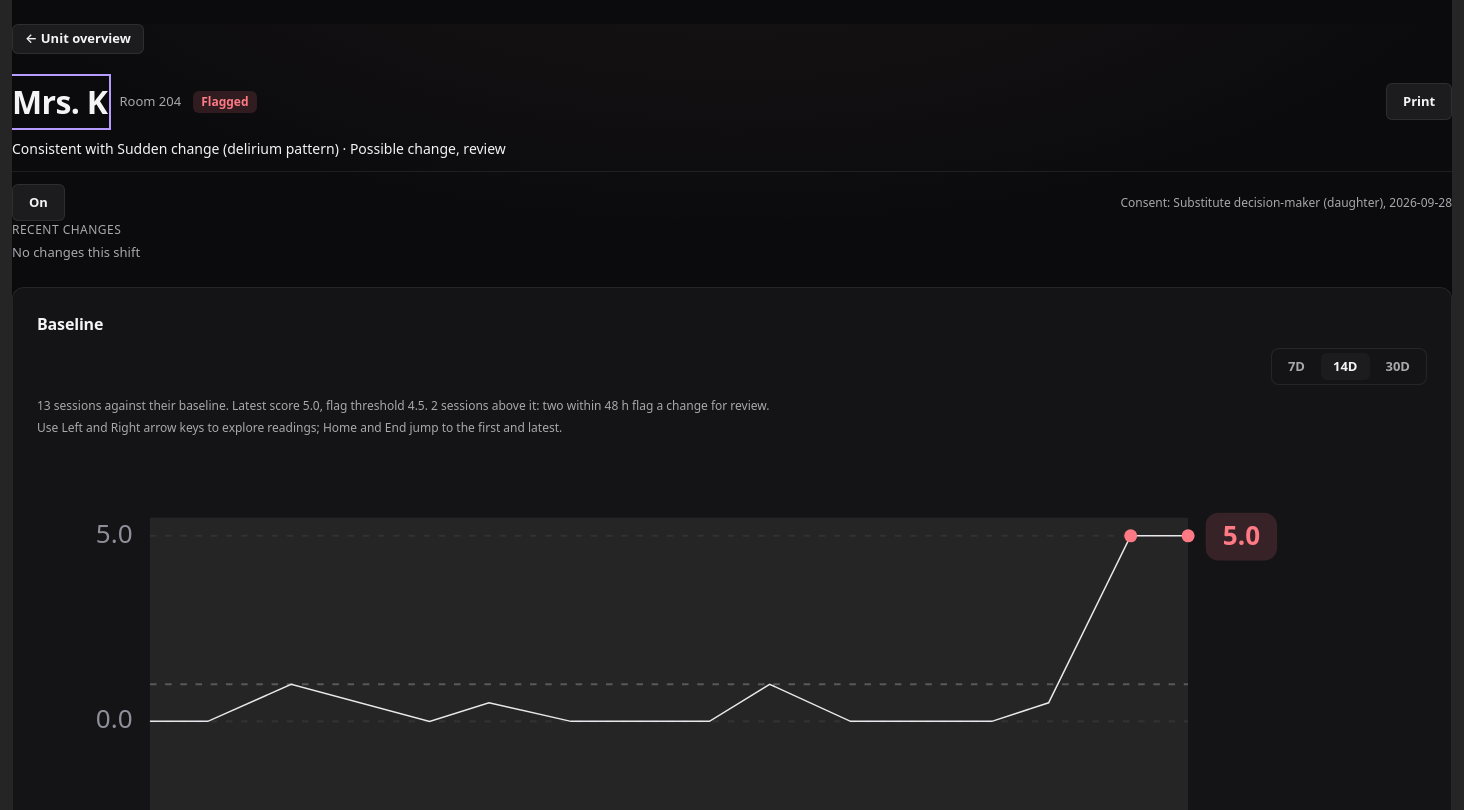
Test: ResidentDetail monitoring switch (T243) › re-reads the trail after the nurse pauses the room (T262)
The width and height of the screenshot is (1464, 810).
Expected: the text "No changes this shift" is shown, [12,243,140,262]
Step 1. Click the switch named "Monitoring in room 204" → (38, 202), box [12,184,65,221]
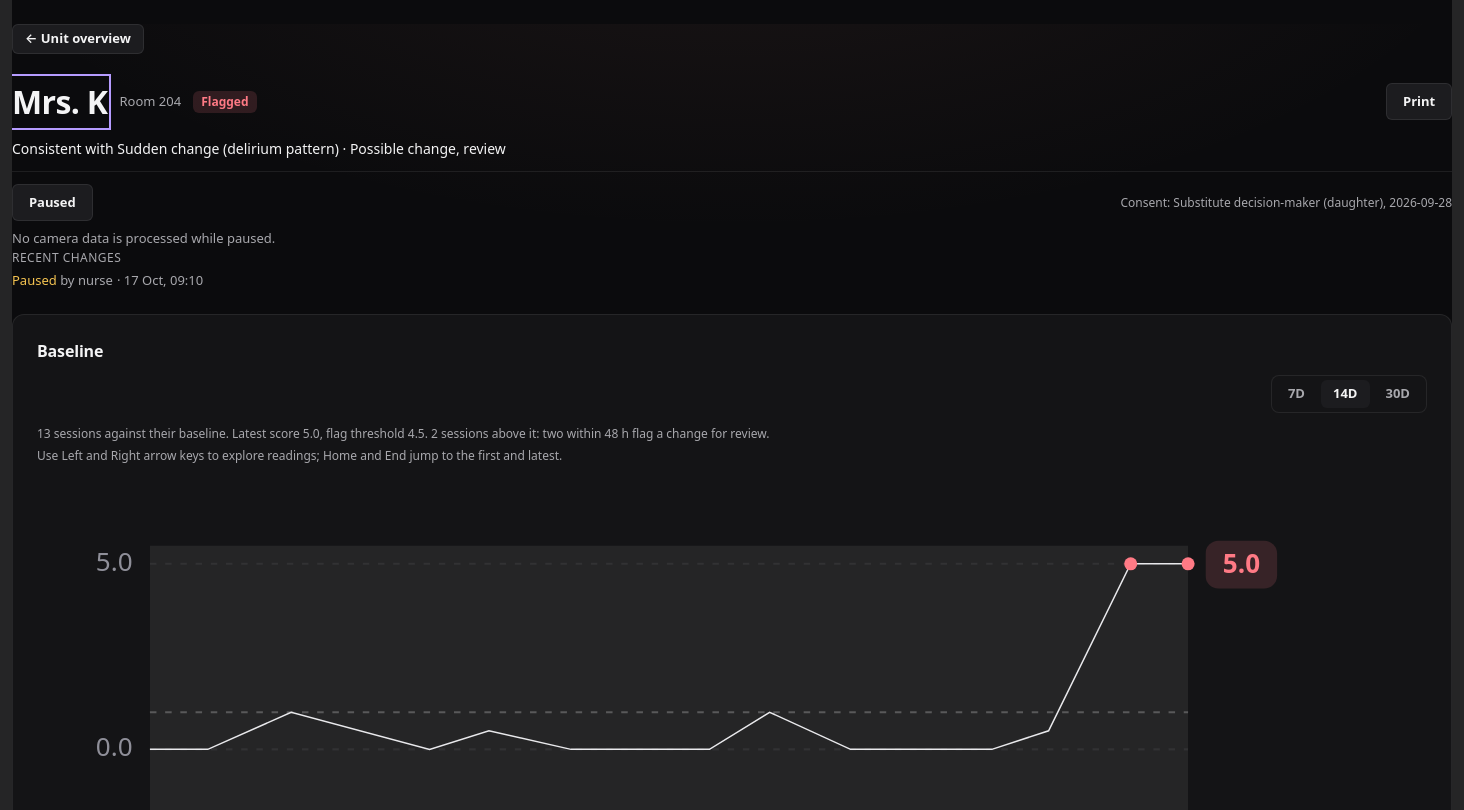
Expected: the element "Recent changes" shows "Paused by nurse · 17 Oct, 09:10", [12,248,203,288]
Expected: the text "No changes this shift" is gone
